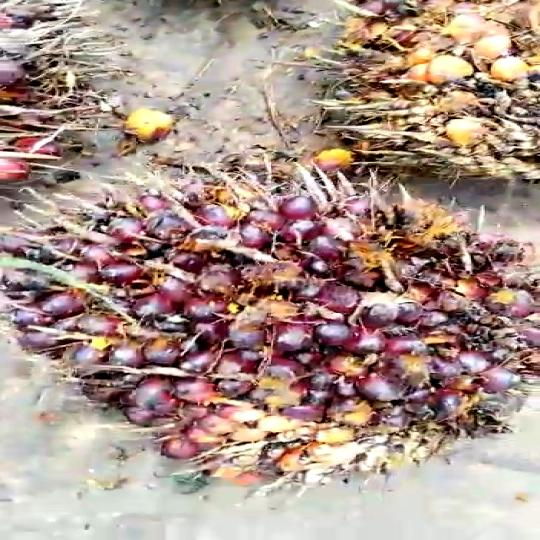masak: (0, 161, 540, 496)
